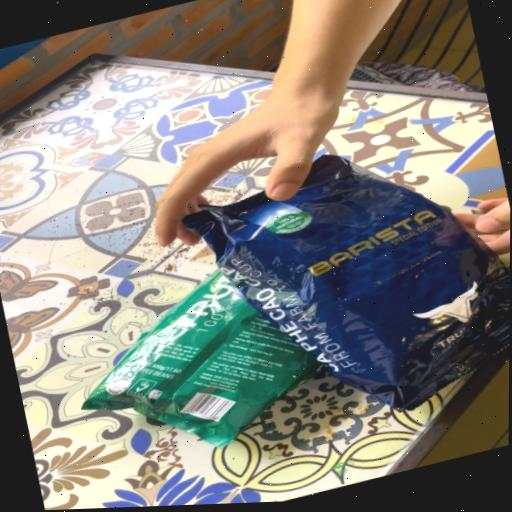cafe_hat: (183, 154, 510, 410)
cafe_xay: (82, 271, 317, 447)
